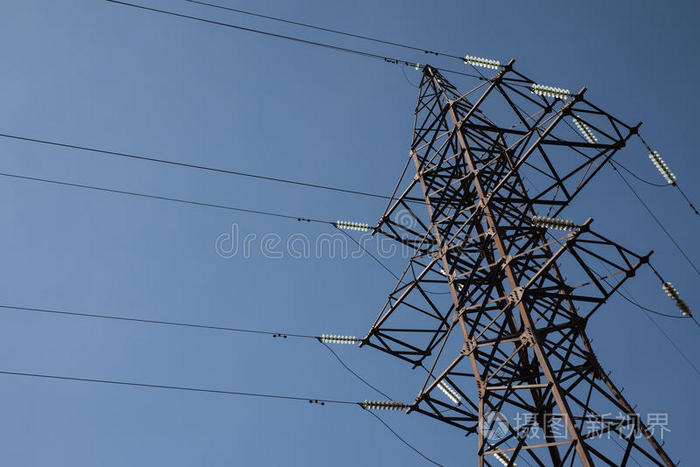insulator: (660, 281, 693, 317), (646, 151, 677, 186), (360, 396, 409, 414), (530, 215, 576, 232), (436, 382, 465, 405), (463, 52, 502, 69), (529, 83, 571, 98), (575, 118, 597, 144), (337, 217, 370, 233), (318, 333, 362, 344), (492, 451, 514, 466)
